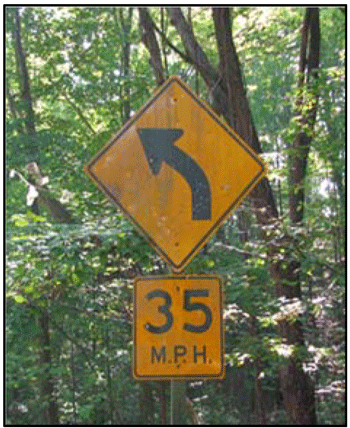left: (78, 72, 273, 276)
